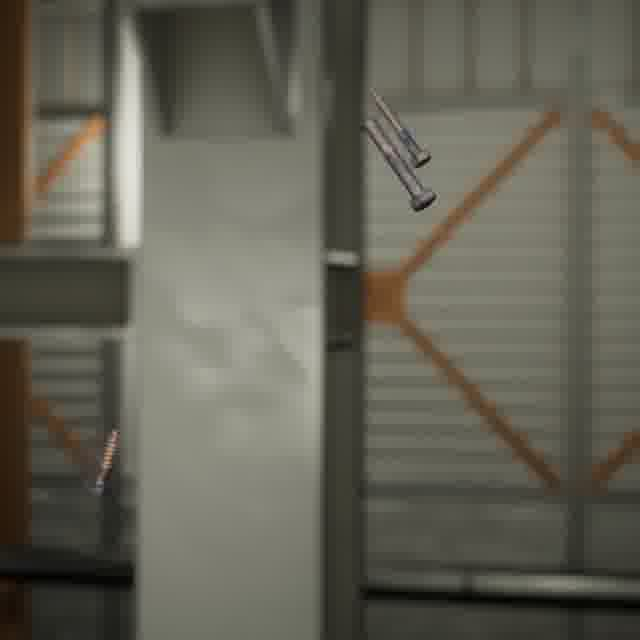bolt: (359, 113, 440, 216), (365, 82, 435, 172), (81, 425, 125, 500)
